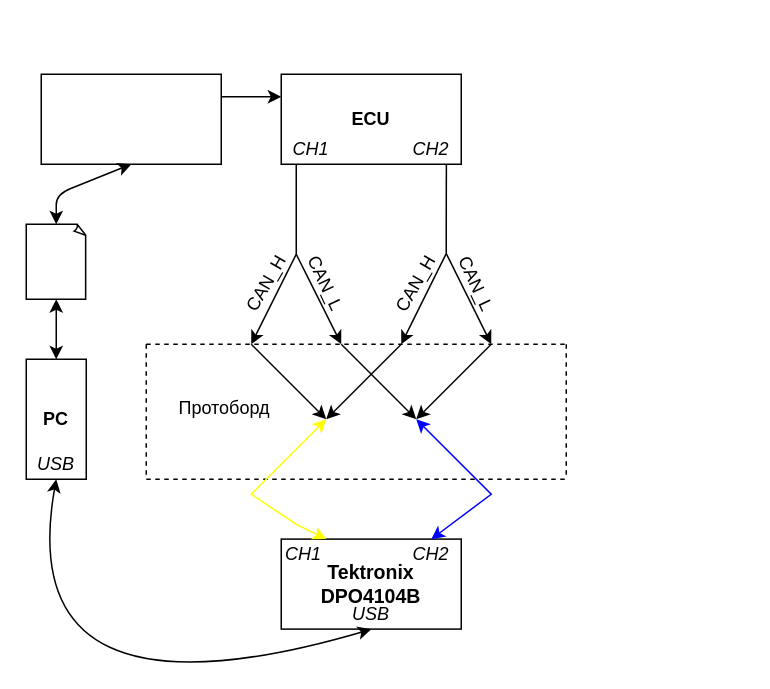
This 770x689 diagram has some shape labels left out. The shapes that lost their labels are listed below. From the top down, each one's centre as x and y in pixels, then its label:
At (130,118): "CANoe".
At (55,261): "main.py".
